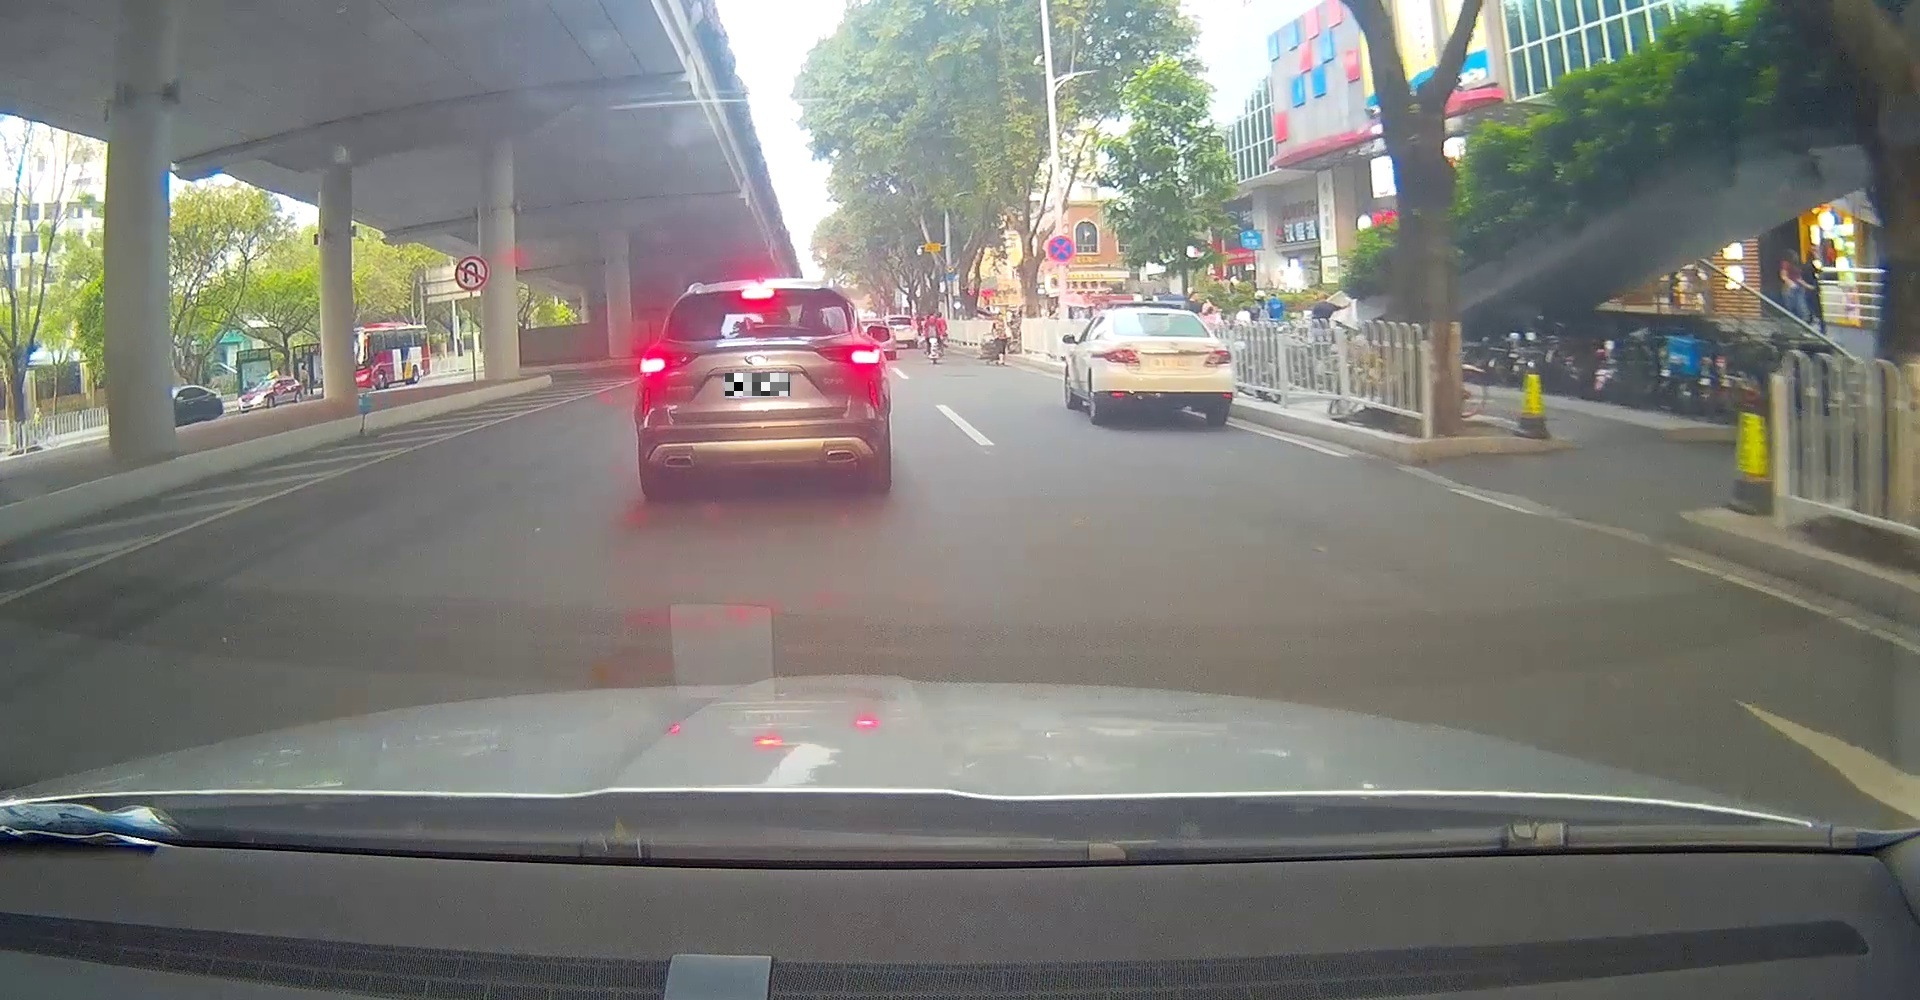L_light: (637, 352, 698, 373), (1102, 348, 1139, 364)
R_light: (815, 343, 881, 365), (1204, 349, 1230, 363)
T_light: (740, 289, 776, 299), (1145, 312, 1170, 317)
day-brake: (632, 278, 891, 497)
day-no: (1100, 308, 1236, 425)
plate_1: (725, 373, 790, 396)
